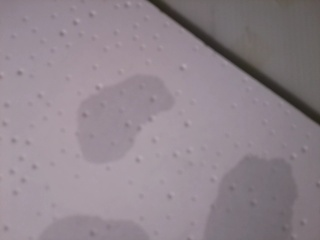Water_detected: (77, 77, 158, 156), (202, 164, 258, 236)
